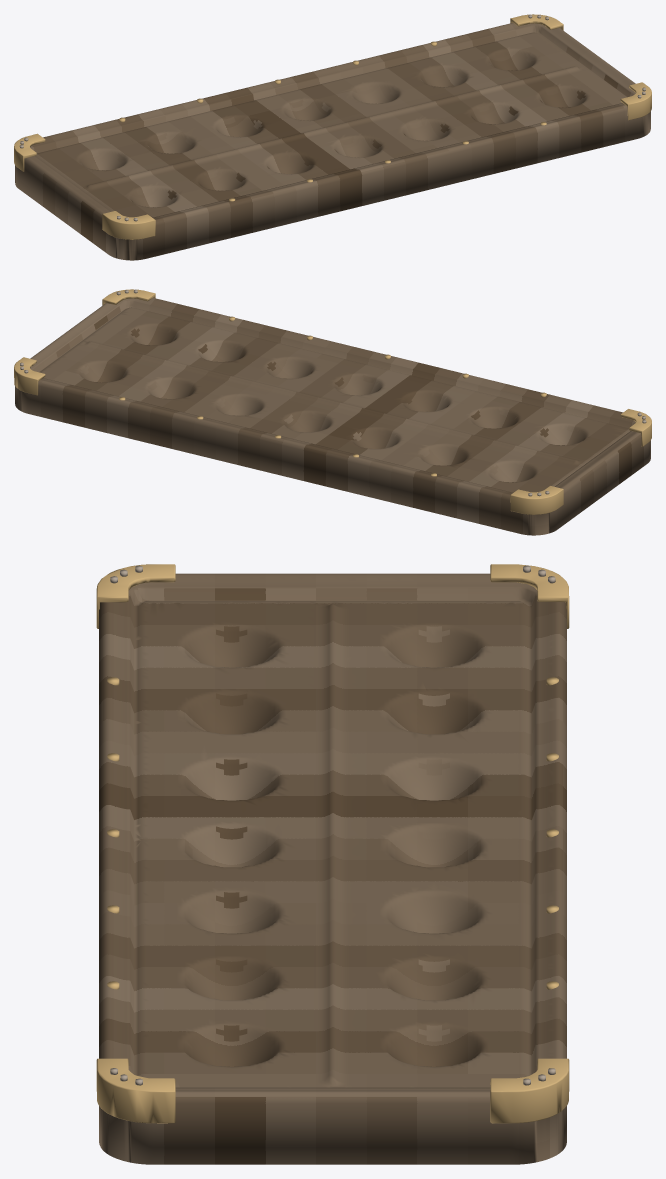
File: board.mobile.glb
The picture shows the model from 3 angles, top to bottom: view 1: azimuth 30°, elevation 25°; view 2: azimuth 150°, elevation 25°; view 3: azimuth 270°, elevation 25°; orthographic projection. The views are drawn at different scales.
Visible parts, largest first — view 1: BoardWood, BoardMetal; view 2: BoardWood, BoardMetal; view 3: BoardWood, BoardMetal.
Part boxes in pixels (x1=…): BoardWood: x1=15, y1=23, x2=650, y2=260; BoardMetal: x1=14, y1=14, x2=651, y2=239; BoardWood: x1=15, y1=298, x2=650, y2=535; BoardMetal: x1=14, y1=289, x2=651, y2=514; BoardWood: x1=99, y1=573, x2=566, y2=1164; BoardMetal: x1=96, y1=564, x2=569, y2=1123.
Size of the model in its own units: 1.11 by 0.0768 by 0.4201.
3 materials, 1 textured.
